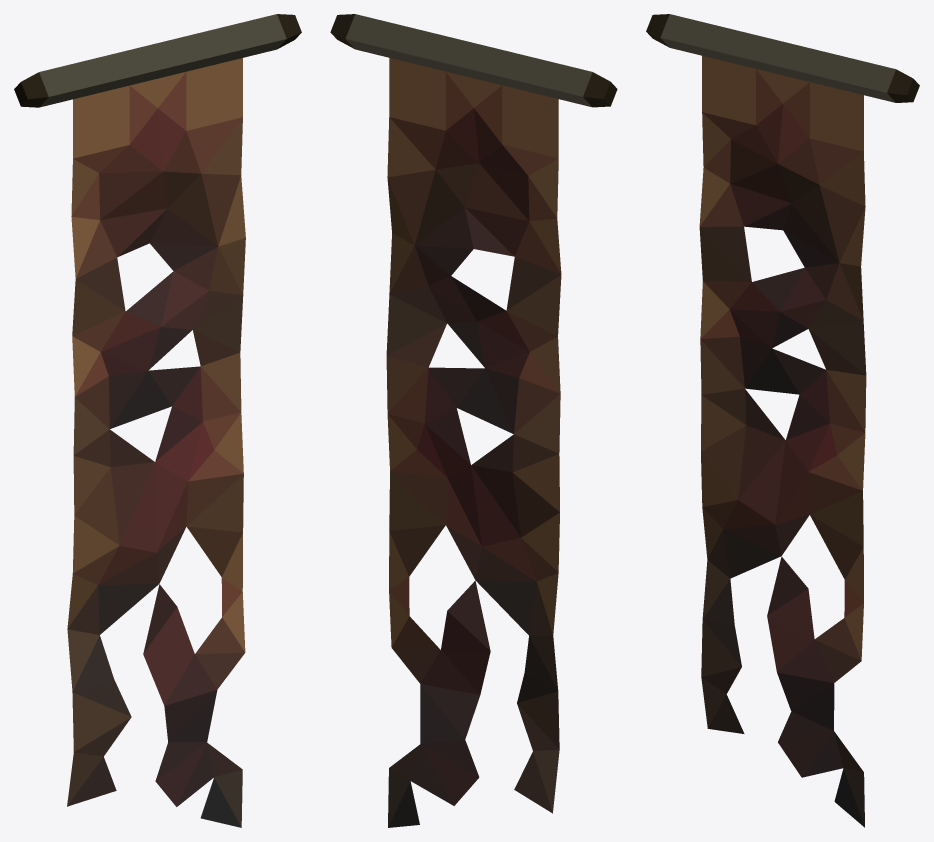
The model's file is Prop_TapestryThinAWorn.fbx.
3 renders of one model, left to right at view 1: azimuth 30°, elevation 25°; view 2: azimuth 150°, elevation 25°; view 3: azimuth 330°, elevation 25°, orthographic. The views are drawn at different scales.
Visible parts, largest first — view 1: Prop_TapestryThinAWorn; view 2: Prop_TapestryThinAWorn; view 3: Prop_TapestryThinAWorn.
Boxes of the visible parts, left/top/right/bottom form: Prop_TapestryThinAWorn: left=14, top=14, right=301, bottom=827; Prop_TapestryThinAWorn: left=330, top=14, right=617, bottom=827; Prop_TapestryThinAWorn: left=646, top=14, right=919, bottom=827.
Size of the model in its own units: 80.63 by 227 by 10.
